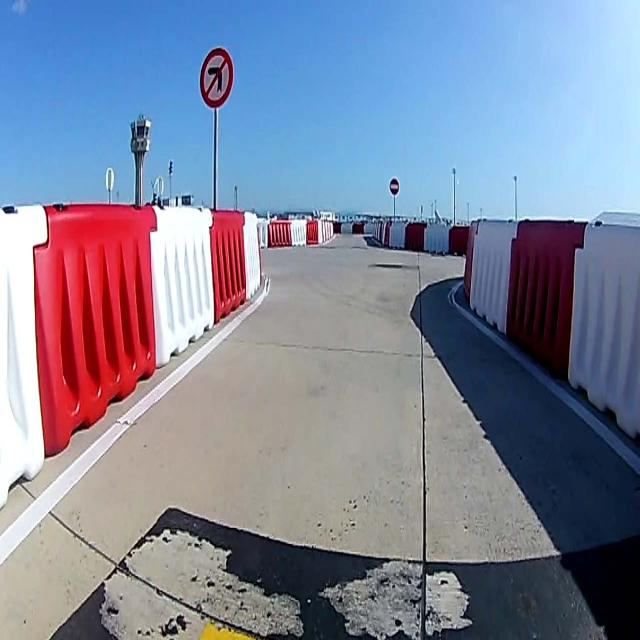soladonulmez: (200, 48, 234, 108)
